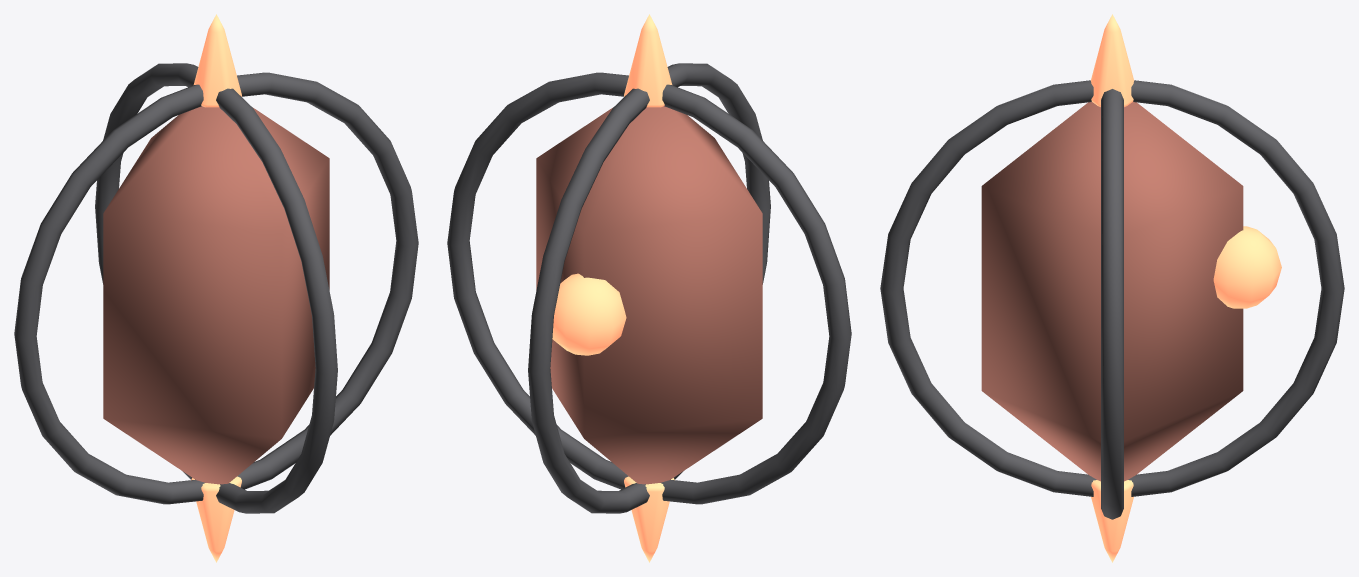
The model's file is teleporter.glb.
3 views of the same model, side by side, from view 1: azimuth 30°, elevation 25°; view 2: azimuth 150°, elevation 25°; view 3: azimuth 270°, elevation 25° (orthographic).
Parts seen in each view (by area): view 1: Kristall, Ring1, Ring2, Spitze1.001, Spitze-1.001; view 2: Kristall, Ring1, Ring2, Auge.006, Spitze1.001, Spitze-1.001; view 3: Kristall, Ring2, Ring1, Auge.006, Spitze1.001, Spitze-1.001.
Part boxes in pixels (<box>): Kristall: <box>103,106,329,484</box>; Ring1: <box>14,72,418,504</box>; Ring2: <box>95,63,337,513</box>; Spitze1.001: <box>193,14,241,107</box>; Spitze-1.001: <box>191,476,241,562</box>; Kristall: <box>536,106,762,484</box>; Ring1: <box>447,72,851,504</box>; Ring2: <box>528,63,770,513</box>; Auge.006: <box>552,273,626,355</box>; Spitze1.001: <box>624,14,672,107</box>; Spitze-1.001: <box>624,476,674,562</box>; Kristall: <box>981,102,1243,481</box>; Ring2: <box>880,80,1344,496</box>; Ring1: <box>1101,89,1123,519</box>; Auge.006: <box>1213,226,1281,308</box>; Spitze1.001: <box>1090,14,1134,106</box>; Spitze-1.001: <box>1091,480,1133,562</box>.
Size of the model in its own units: 2 by 2.61 by 2.
